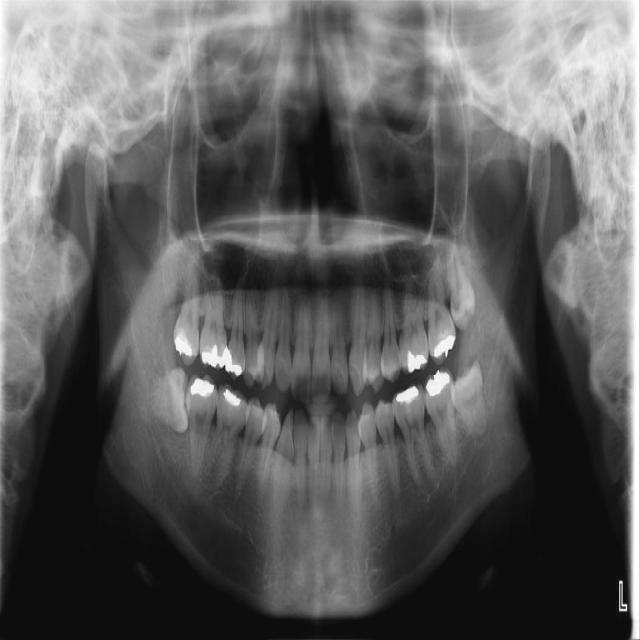Filling: (422, 367, 451, 396), (430, 332, 457, 361), (172, 328, 195, 361), (203, 343, 227, 368), (224, 349, 246, 374), (405, 348, 427, 372), (393, 385, 420, 403), (189, 379, 213, 399), (224, 389, 246, 408)
impacted tooth: (143, 371, 188, 433), (448, 242, 477, 329), (456, 361, 487, 438)
